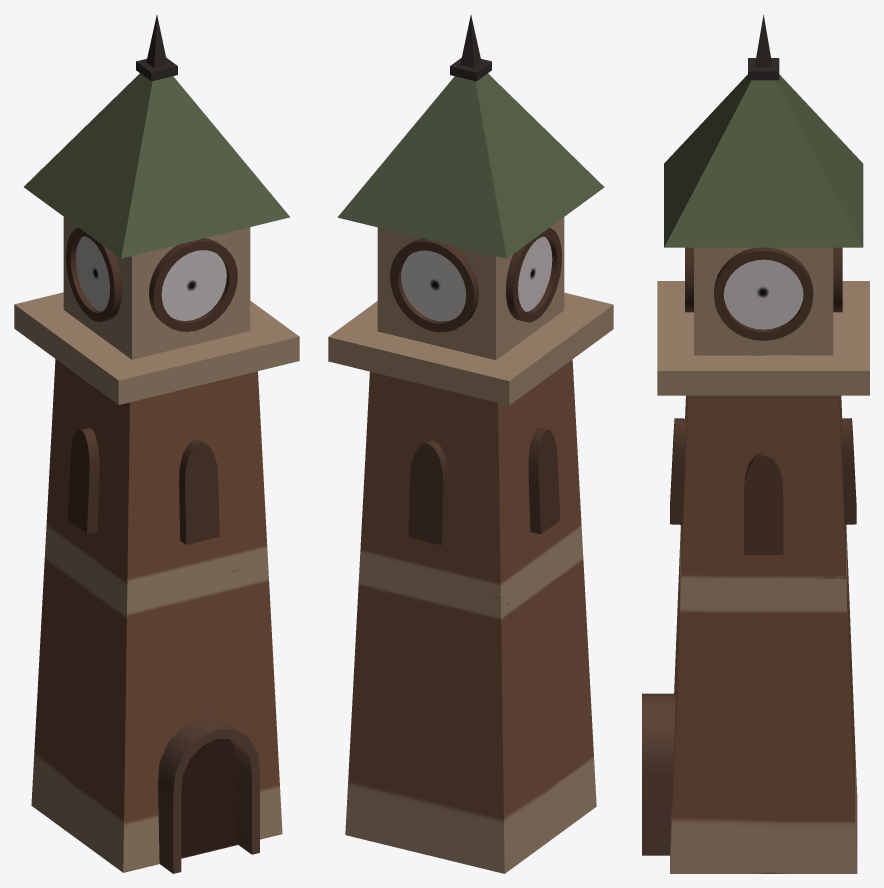
Rendered from ClockTower.fbx.
3 renders of one model, left to right at view 1: azimuth 30°, elevation 25°; view 2: azimuth 150°, elevation 25°; view 3: azimuth 270°, elevation 25°, orthographic.
Parts seen in each view (by area): view 1: ClockTower; view 2: ClockTower; view 3: ClockTower.
Boxes of the visible parts, box(x1,y1,x2,y2) form: ClockTower: box(14, 15, 299, 873); ClockTower: box(328, 15, 613, 873); ClockTower: box(642, 15, 869, 873).
Size of the model in its own units: 2.52 by 10.72 by 2.7.
